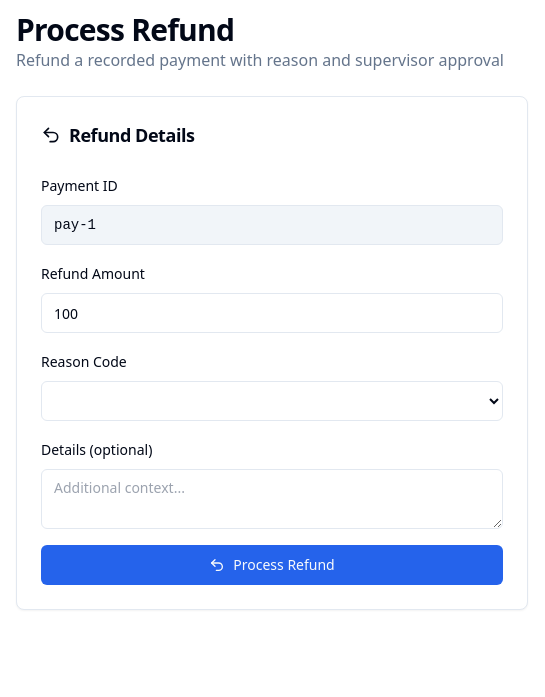
Test: RefundPage — Backend Constraint UI › validates refund amount cannot exceed original payment
Set refund amount higher than max
Replace the text in the number field labelled "Refund Amount" with "200" at {"x": 272, "y": 313}, box [41,293,503,333]
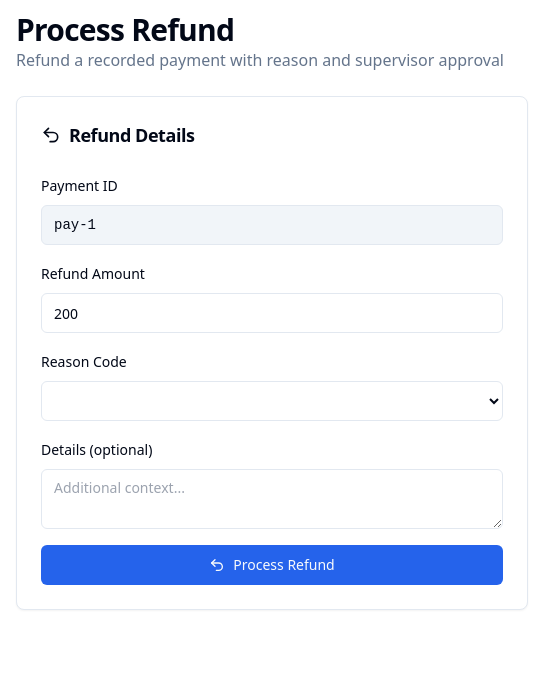
Click the button "Process Refund" at {"x": 272, "y": 565}, box [41,545,503,585]
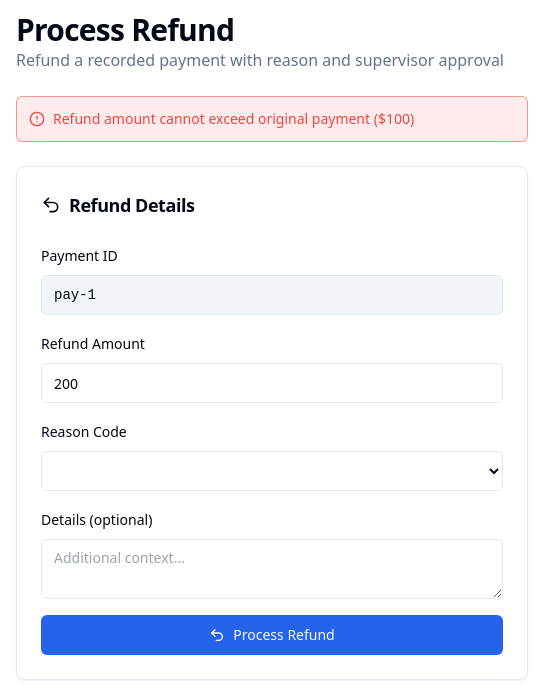
Now the text "Refund amount cannot exceed original payment ($100)" is shown, box [16,96,528,142]
